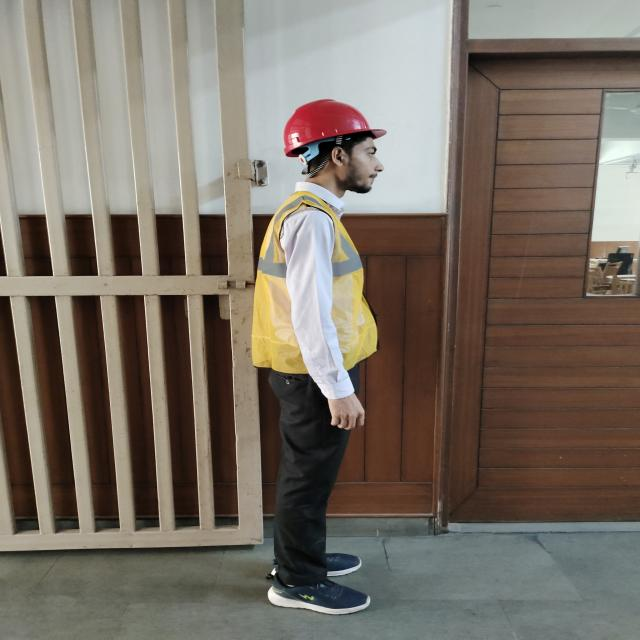safe: (251, 100, 387, 614)
